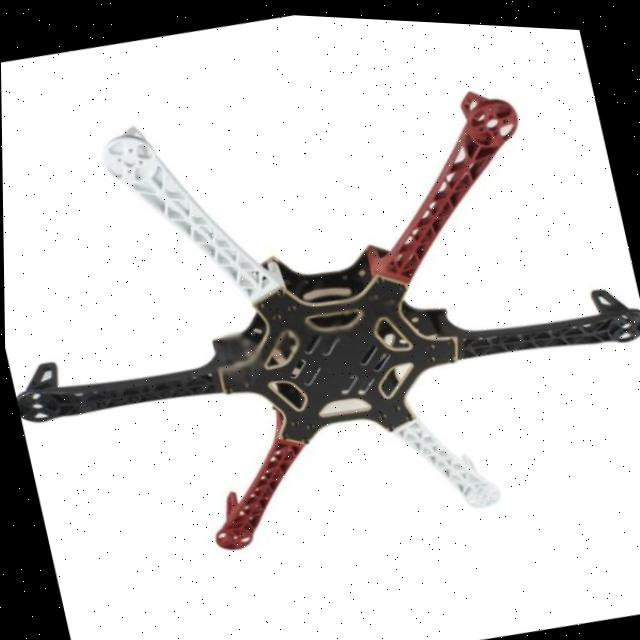drones: (0, 3, 640, 623)
